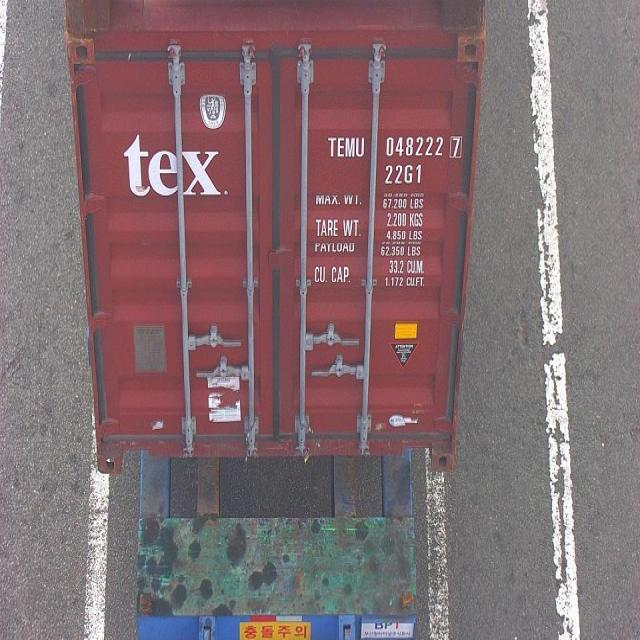ISO: (384, 160, 427, 186)
container_number: (328, 136, 461, 158)
